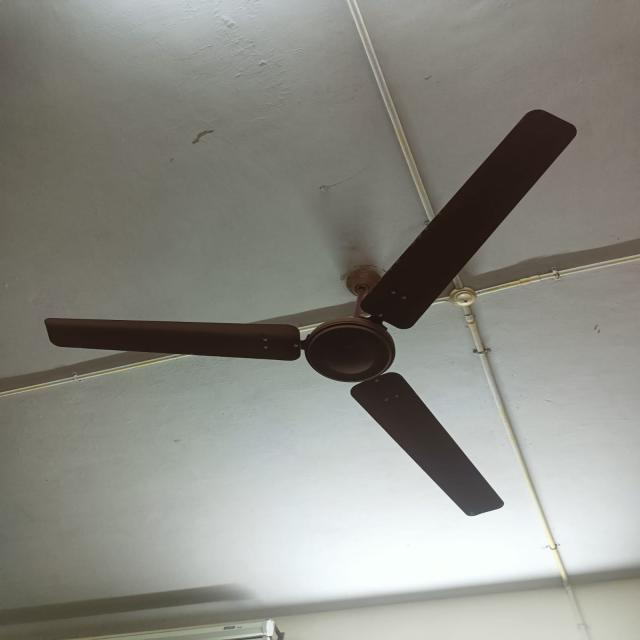fan_off: (45, 111, 570, 522)
